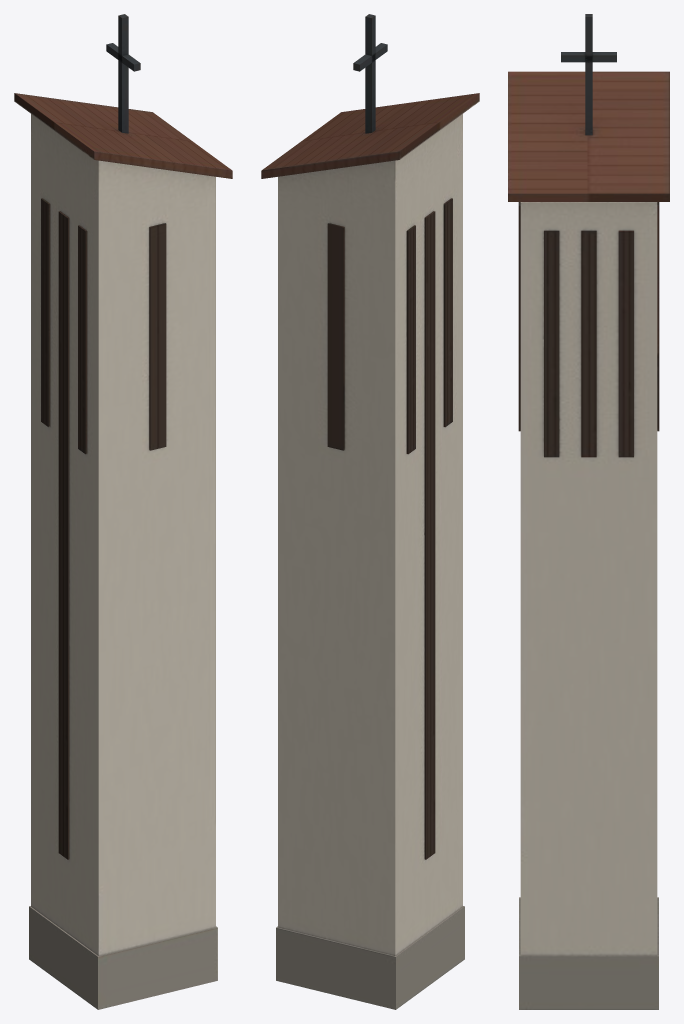
Rendered from dzwonnica.glb.
3 renders of one model, left to right at view 1: azimuth 30°, elevation 25°; view 2: azimuth 150°, elevation 25°; view 3: azimuth 270°, elevation 25°, orthographic.
Parts seen in each view (by area): view 1: dzwonnica; view 2: dzwonnica; view 3: dzwonnica.
Part boxes in pixels (x1,y1,x2,y2): dzwonnica: [14, 14, 232, 1009]; dzwonnica: [261, 14, 479, 1009]; dzwonnica: [508, 14, 669, 1009].
Bounding box in the file's own units: 5.2 × 34.2 × 5.2.
Materials: 1 (1 with a texture image).
